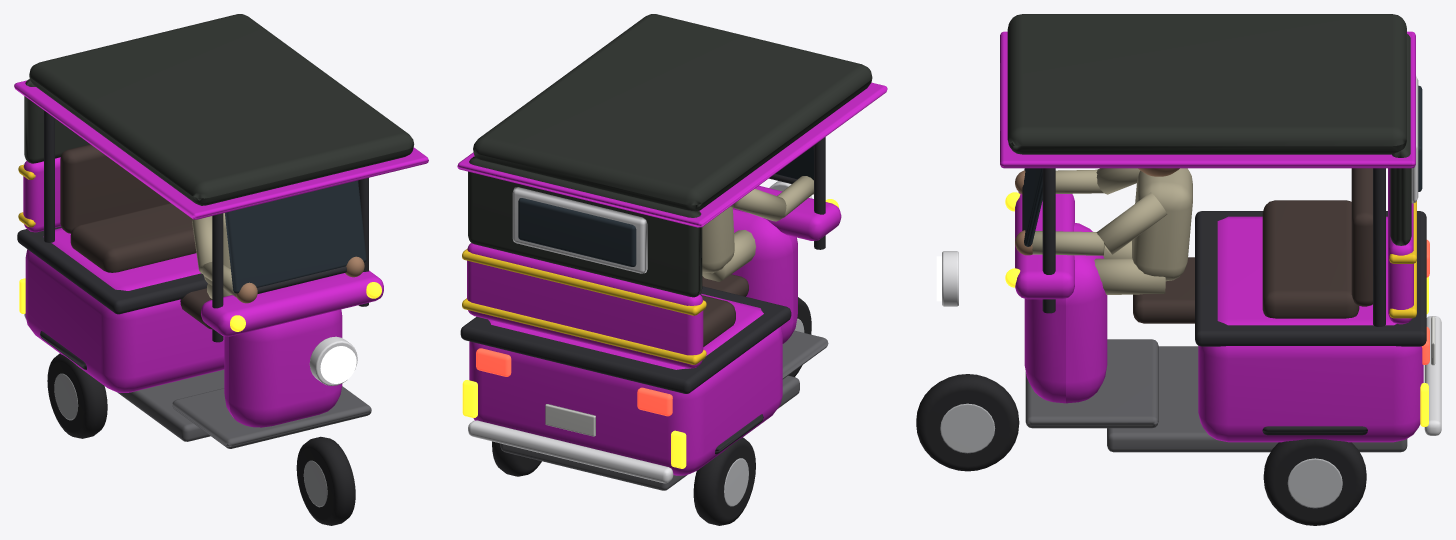
File: auto-high.glb
3 renders of one model, left to right at view 1: azimuth 30°, elevation 25°; view 2: azimuth 150°, elevation 25°; view 3: azimuth 270°, elevation 25°, orthographic. The views are drawn at different scales.
Visible parts, largest first — view 1: wf; view 2: wf; view 3: wf.
Part boxes in pixels (bbox=[...]): wf: bbox=[14, 14, 428, 525]; wf: bbox=[457, 14, 887, 525]; wf: bbox=[916, 14, 1441, 525].
Size of the model in its own units: 1.46 by 2.05 by 2.45.
